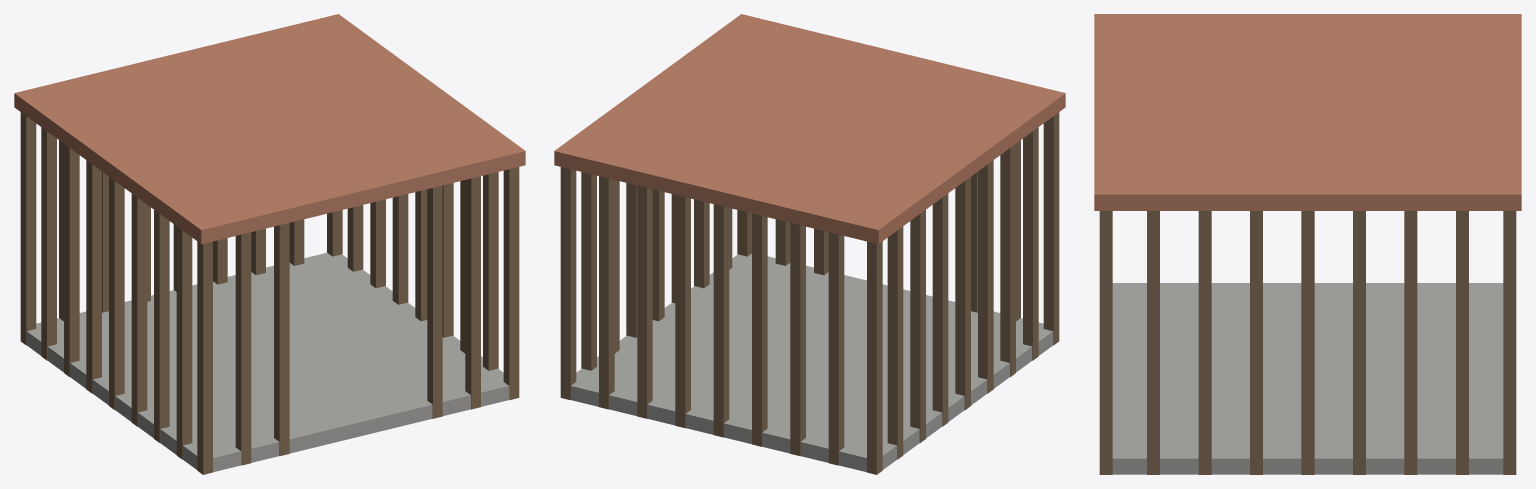
The model's file is prison.glb.
3 views of the same model, side by side, from view 1: azimuth 30°, elevation 25°; view 2: azimuth 150°, elevation 25°; view 3: azimuth 270°, elevation 25° (orthographic). The views are drawn at different scales.
Parts seen in each view (by area): view 1: part_30, part_0, part_3, part_14, part_2, part_16, part_18, part_1, part_5, part_10, part_12, part_20 (+17 smaller); view 2: part_30, part_0, part_8, part_4, part_15, part_1, part_20, part_22, part_2, part_9, part_6, part_11 (+18 smaller); view 3: part_30, part_0, part_14, part_15, part_24, part_26, part_28, part_23, part_25, part_27, part_29.
Part boxes in pixels (bbox=[...]): part_30: bbox=[14, 14, 525, 244]; part_0: bbox=[26, 252, 509, 472]; part_3: bbox=[235, 232, 251, 465]; part_14: bbox=[503, 167, 519, 400]; part_2: bbox=[20, 112, 36, 345]; part_16: bbox=[176, 226, 192, 459]; part_18: bbox=[131, 193, 147, 426]; part_1: bbox=[197, 241, 212, 474]; part_5: bbox=[274, 223, 289, 455]; part_10: bbox=[427, 185, 442, 418]; part_12: bbox=[465, 176, 480, 409]; part_20: bbox=[86, 160, 101, 393]; part_30: bbox=[554, 14, 1065, 244]; part_0: bbox=[570, 253, 1053, 472]; part_8: bbox=[713, 204, 729, 437]; part_4: bbox=[828, 232, 844, 465]; part_15: bbox=[560, 167, 576, 400]; part_1: bbox=[1043, 112, 1059, 345]; part_20: bbox=[932, 193, 948, 426]; part_22: bbox=[887, 226, 903, 459]; part_2: bbox=[867, 241, 882, 474]; part_9: bbox=[675, 195, 690, 428]; part_6: bbox=[790, 223, 805, 455]; part_11: bbox=[637, 185, 652, 418]; part_30: bbox=[1094, 14, 1521, 210]; part_0: bbox=[1112, 283, 1503, 474]; part_14: bbox=[1099, 211, 1112, 474]; part_15: bbox=[1503, 211, 1516, 474]; part_24: bbox=[1198, 211, 1211, 474]; part_26: bbox=[1301, 211, 1314, 474]; part_28: bbox=[1404, 211, 1417, 474]; part_23: bbox=[1147, 211, 1159, 474]; part_25: bbox=[1250, 211, 1262, 474]; part_27: bbox=[1353, 211, 1365, 474]; part_29: bbox=[1456, 211, 1468, 474].
Size of the model in its own units: 3.6 by 2.62 by 3.6.
